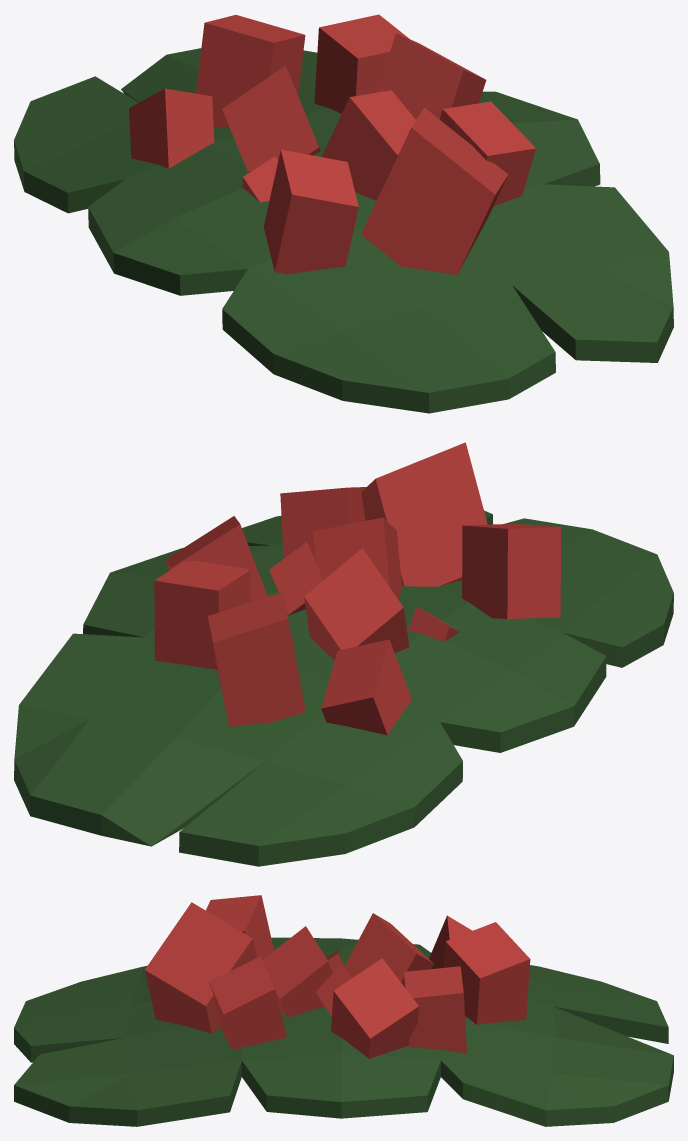
Rendered from Plant_2 Asia.fbx.
The picture shows the model from 3 angles, top to bottom: view 1: azimuth 30°, elevation 25°; view 2: azimuth 150°, elevation 25°; view 3: azimuth 270°, elevation 25°; orthographic projection. The views are drawn at different scales.
Visible parts, largest first — view 1: Plant_2; view 2: Plant_2; view 3: Plant_2.
Part boxes in pixels (box(x1,y1,x2,y2)): Plant_2: box(14, 14, 673, 413); Plant_2: box(14, 442, 673, 866); Plant_2: box(14, 895, 673, 1126).
Bounding box in the file's own units: 0.4934 × 0.1914 × 0.766.
